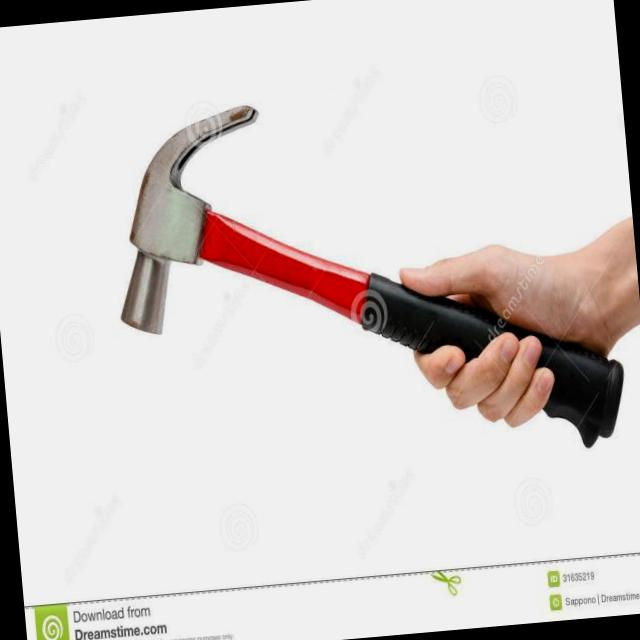hammer: (121, 106, 532, 357), (534, 334, 623, 445)
